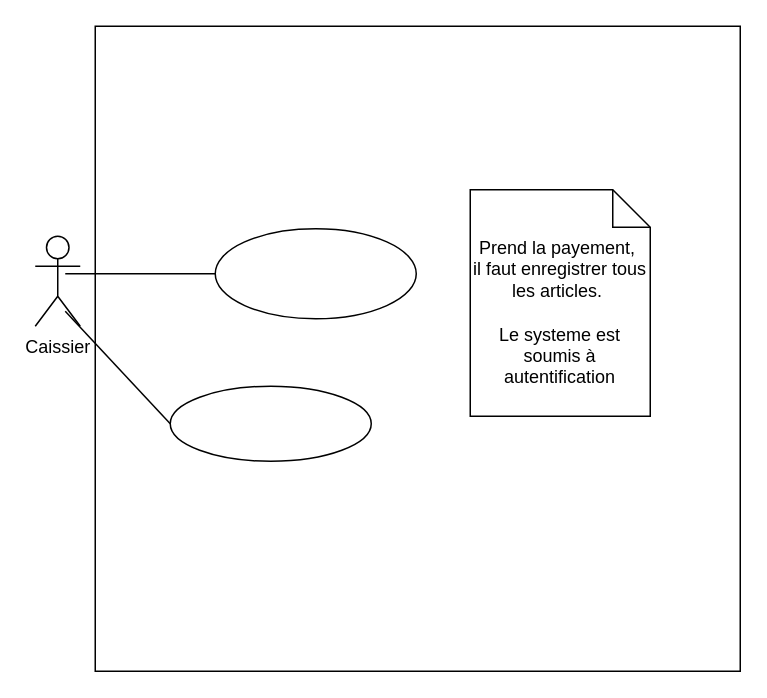
The diagram is 767 pixels wide and 698 high, and some of its shapes have lost their labels. The box of each missing label's shape, as (x1, y1, x2, y2) in pixels:
enregistre un article un par un: (214, 227, 416, 319)
prendre payement: (169, 385, 371, 461)
